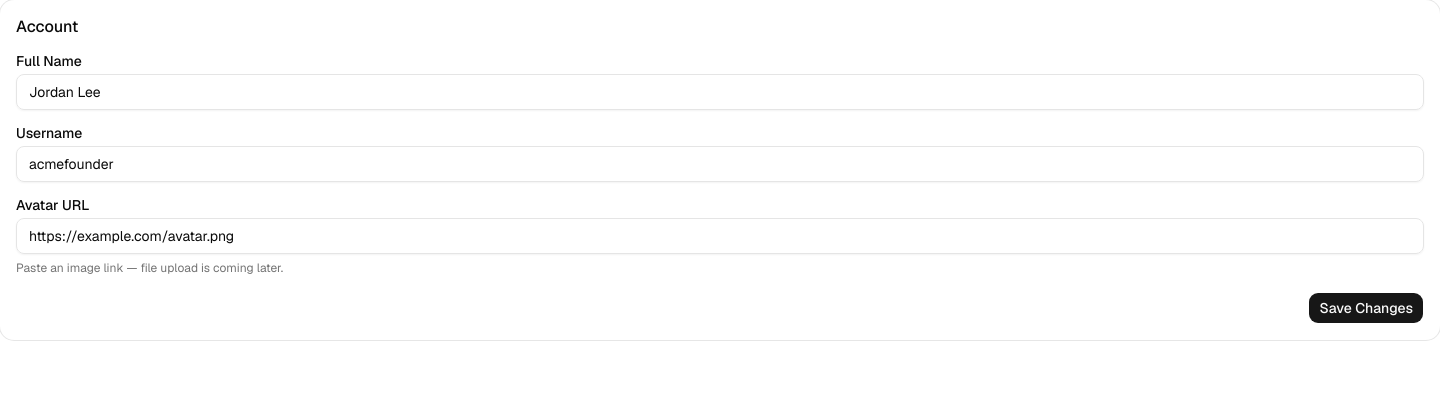
it: IndustryAccountSettingsForm › disables the submit button while saving to prevent duplicate submission
Click the button "Save Changes": click(1366, 308) left=1308, top=292, right=1424, bottom=324
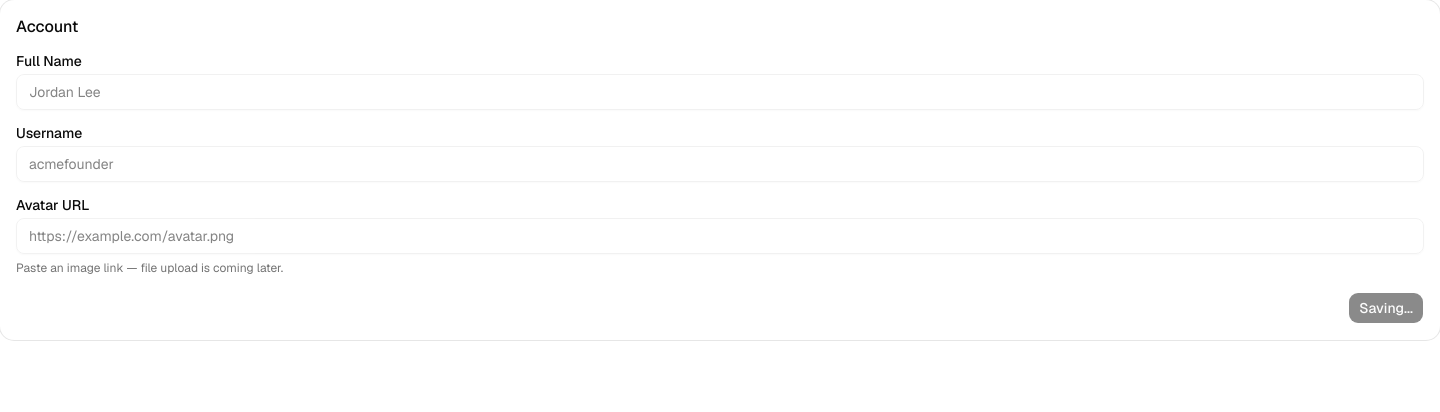
Result: the button "Saving..." is disabled
Click the button "Saving...": click(1386, 308) left=1348, top=292, right=1424, bottom=324
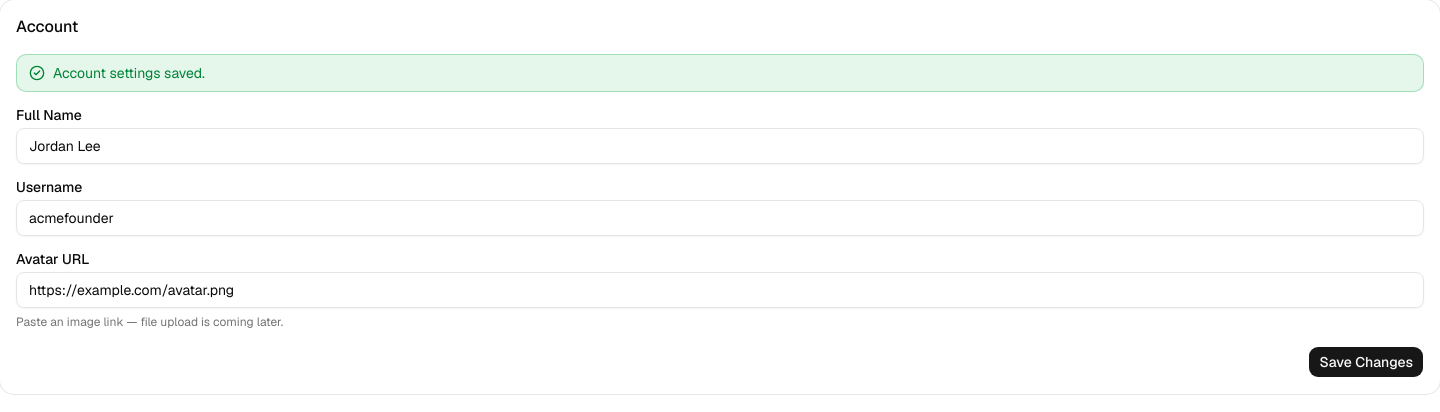
Result: the button "Save Changes" is shown at left=1308, top=346, right=1424, bottom=378
